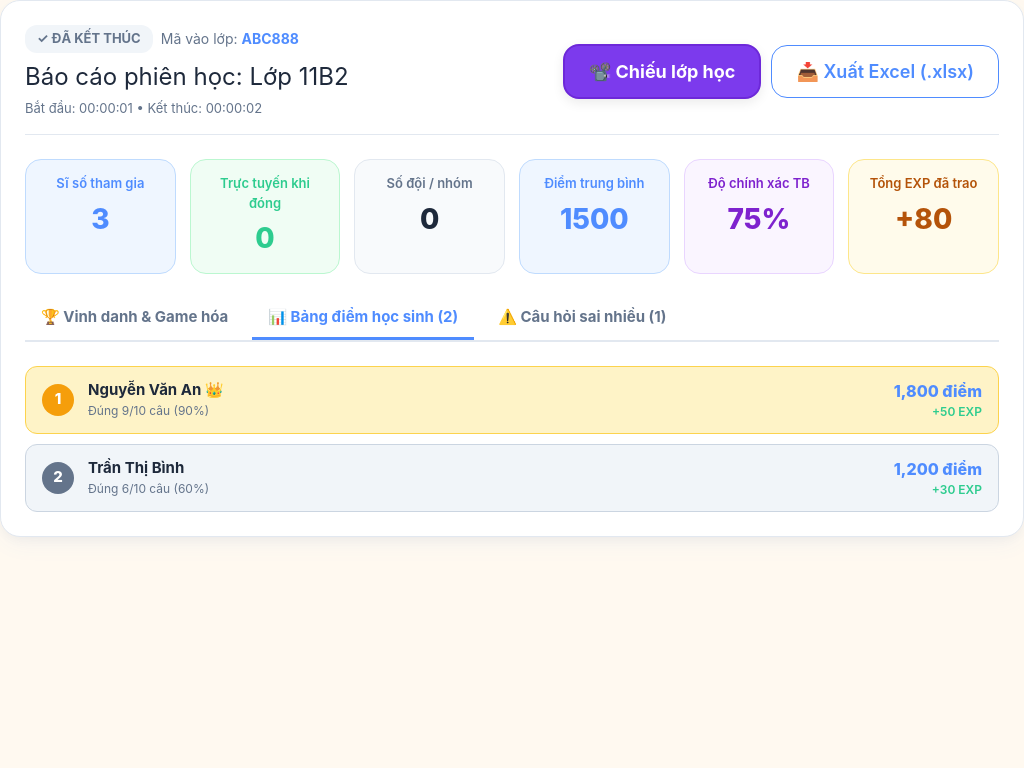
Test: SessionReportView Component (Task 3.4) › switches to difficult questions tab and displays severe question warnings
Step 1. Click the button with test id "tab-difficult-questions" → (582, 319), box x1=482 y1=298 x2=682 y2=340
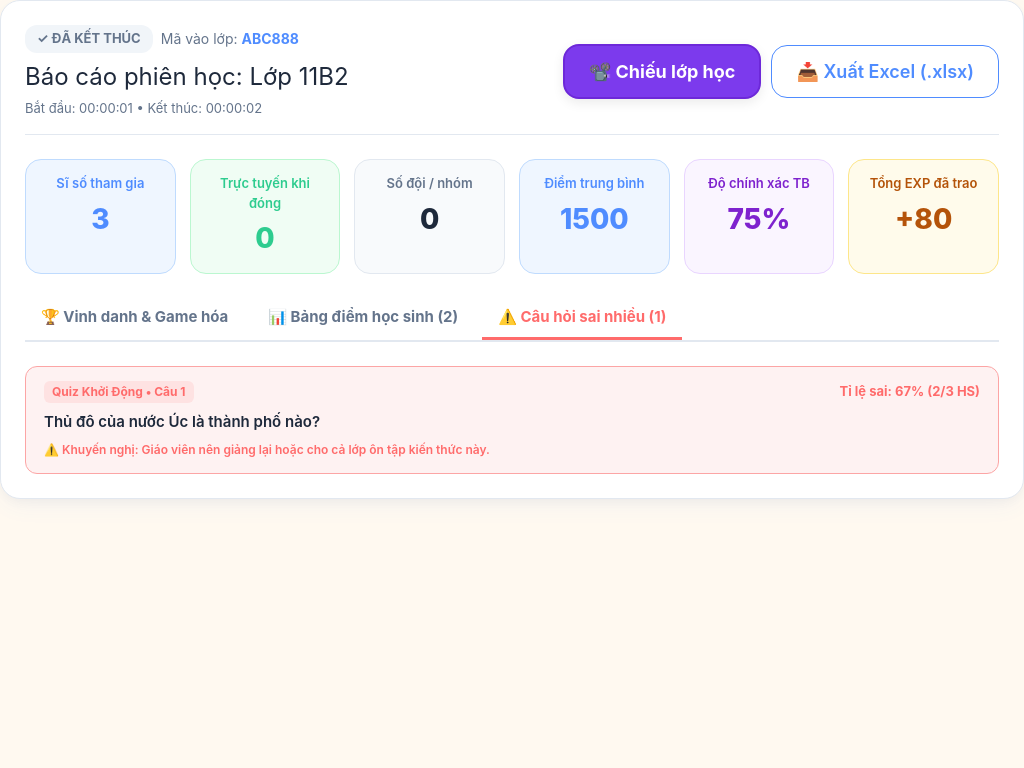
Result: the element with test id "difficult-questions-content" is shown at x1=25 y1=366 x2=999 y2=474
Result: the text "Thủ đô của nước Úc là thành phố nào?" is shown at x1=44 y1=412 x2=320 y2=430
Result: the text with test id "error-rate-q-5" shows "67%" at x1=840 y1=382 x2=980 y2=401
